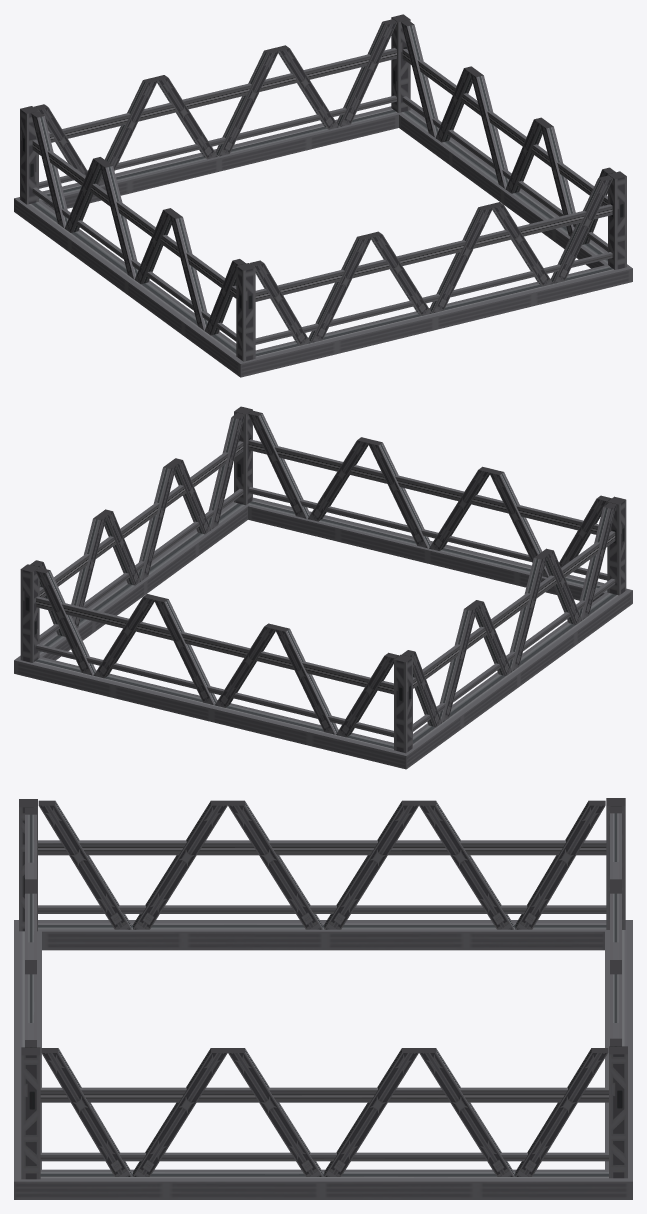
The model's file is worlds_SM_Bld_Platform_Base_Large_01.gltf.
The picture shows the model from 3 angles, top to bottom: view 1: azimuth 30°, elevation 25°; view 2: azimuth 150°, elevation 25°; view 3: azimuth 270°, elevation 25°; orthographic projection. The views are drawn at different scales.
Visible parts, largest first — view 1: SM_Bld_Platform_Base_Large_01; view 2: SM_Bld_Platform_Base_Large_01; view 3: SM_Bld_Platform_Base_Large_01.
Boxes of the visible parts, <box> form: SM_Bld_Platform_Base_Large_01: <box>14,14,632,377</box>; SM_Bld_Platform_Base_Large_01: <box>14,406,632,769</box>; SM_Bld_Platform_Base_Large_01: <box>14,798,632,1199</box>.
Bounding box in the file's own units: 5 × 1.27 × 5.
Materials: 1 (1 with a texture image).
